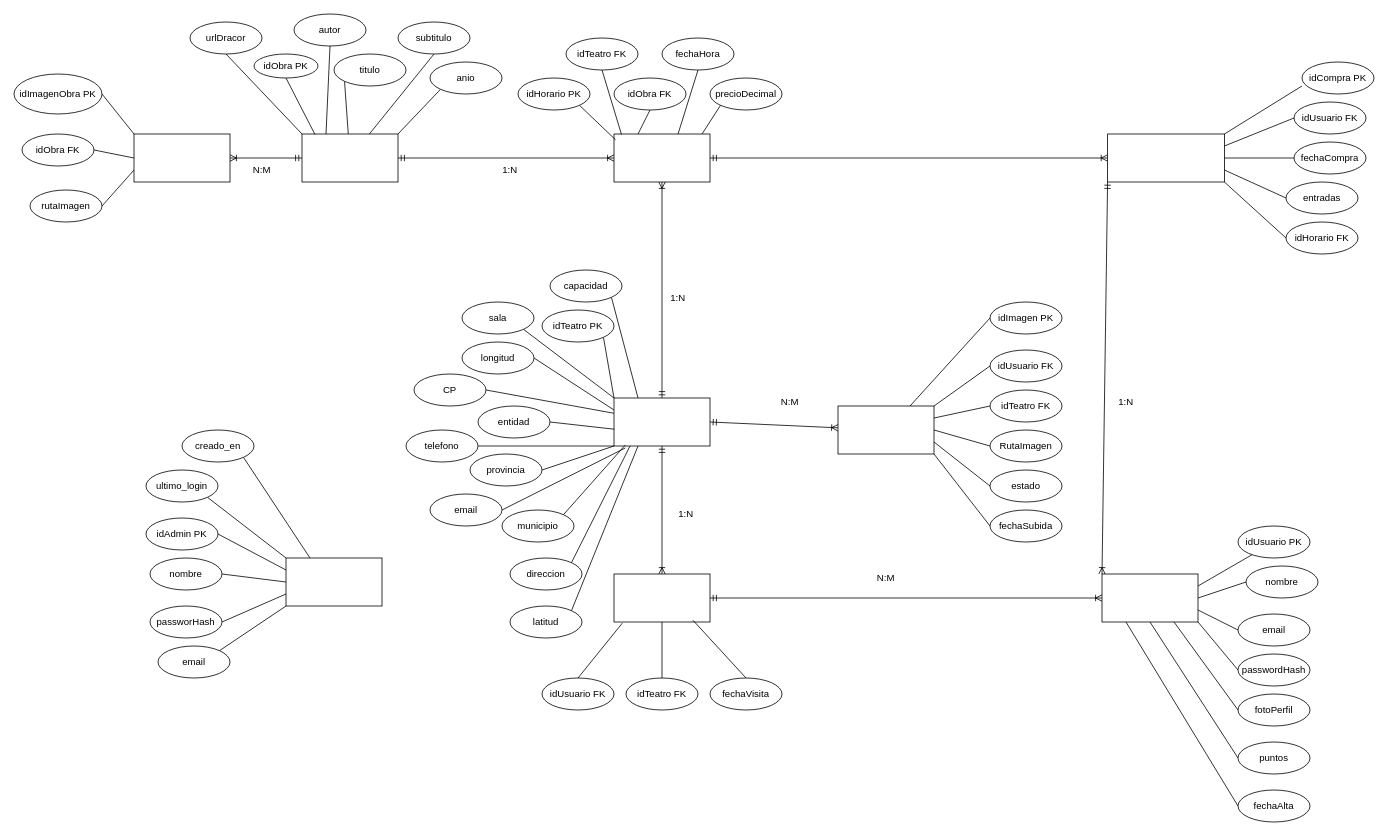
Some shapes in this 1388 by 836 pixel diagram are drawn without their labels. Each missing label, with the centre of its shape:
"ADMINS" belongs at pixel 333 581.
"COMPRAS_ENTRADAS" belongs at pixel 1165 157.
"GALERIA_REVISION" belongs at pixel 885 429.
"HORARIOS" belongs at pixel 661 157.
"IMAGENES_OBRAS" belongs at pixel 181 157.
"OBRAS" belongs at pixel 349 157.
"TEATROS" belongs at pixel 661 421.
"USER" belongs at pixel 1149 597.
"VISITAS_RANKING" belongs at pixel 661 597.
